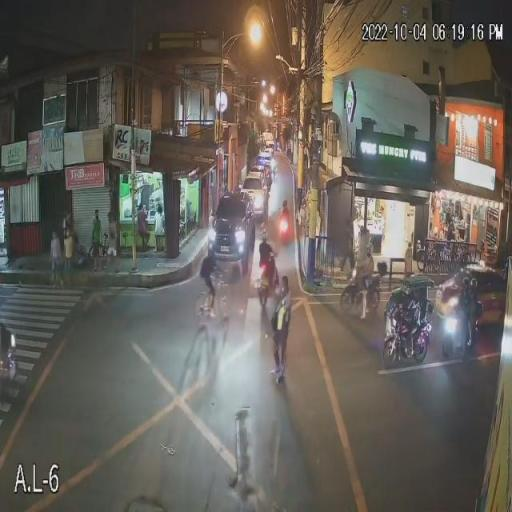helmet: (364, 242, 375, 258), (261, 229, 272, 243), (461, 277, 470, 292), (470, 277, 478, 291)
motorcycle: (382, 276, 436, 370), (436, 297, 478, 368), (338, 274, 386, 319), (255, 261, 278, 308), (274, 215, 294, 247)
rider: (436, 270, 467, 322), (351, 242, 378, 292), (467, 285, 481, 354), (257, 236, 276, 284), (277, 200, 292, 230)
